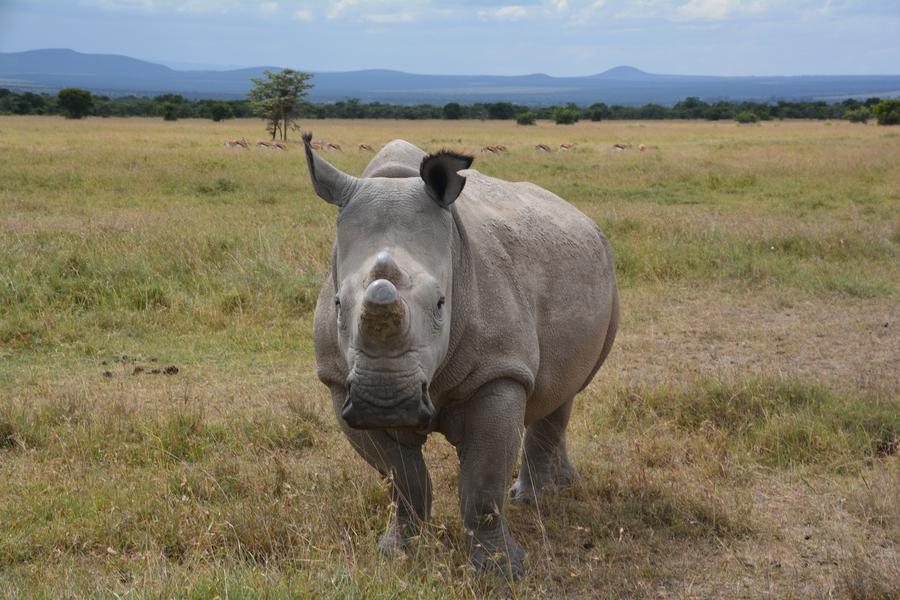rhino: (286, 129, 631, 508)
